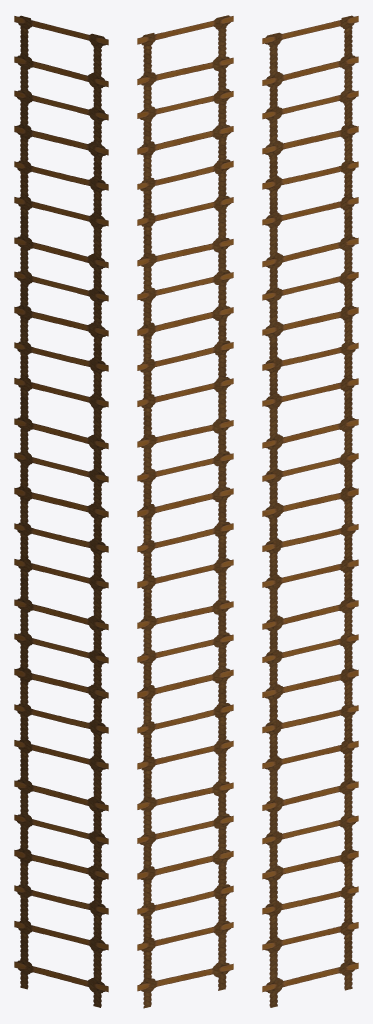
The model's file is watchtower_climb.glb.
3 views of the same model, side by side, from view 1: azimuth 90°, elevation 25°; view 2: azimuth 150°, elevation 25°; view 3: azimuth 330°, elevation 25° (orthographic).
Parts seen in each view (by area): view 1: watchtower_climb.001; view 2: watchtower_climb.001; view 3: watchtower_climb.001.
Part boxes in pixels (left/top/right/bottom): watchtower_climb.001: left=14, top=15, right=108, bottom=1007; watchtower_climb.001: left=137, top=15, right=233, bottom=1008; watchtower_climb.001: left=262, top=15, right=358, bottom=1007.
Bounding box in the file's own units: 0.7669 × 14.56 × 1.28.
1 material, 1 textured.
